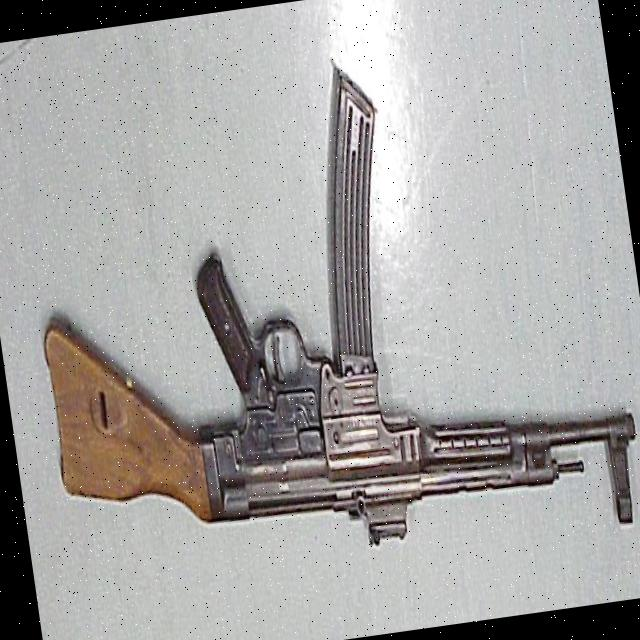Automaticrifle: (5, 26, 640, 599)
